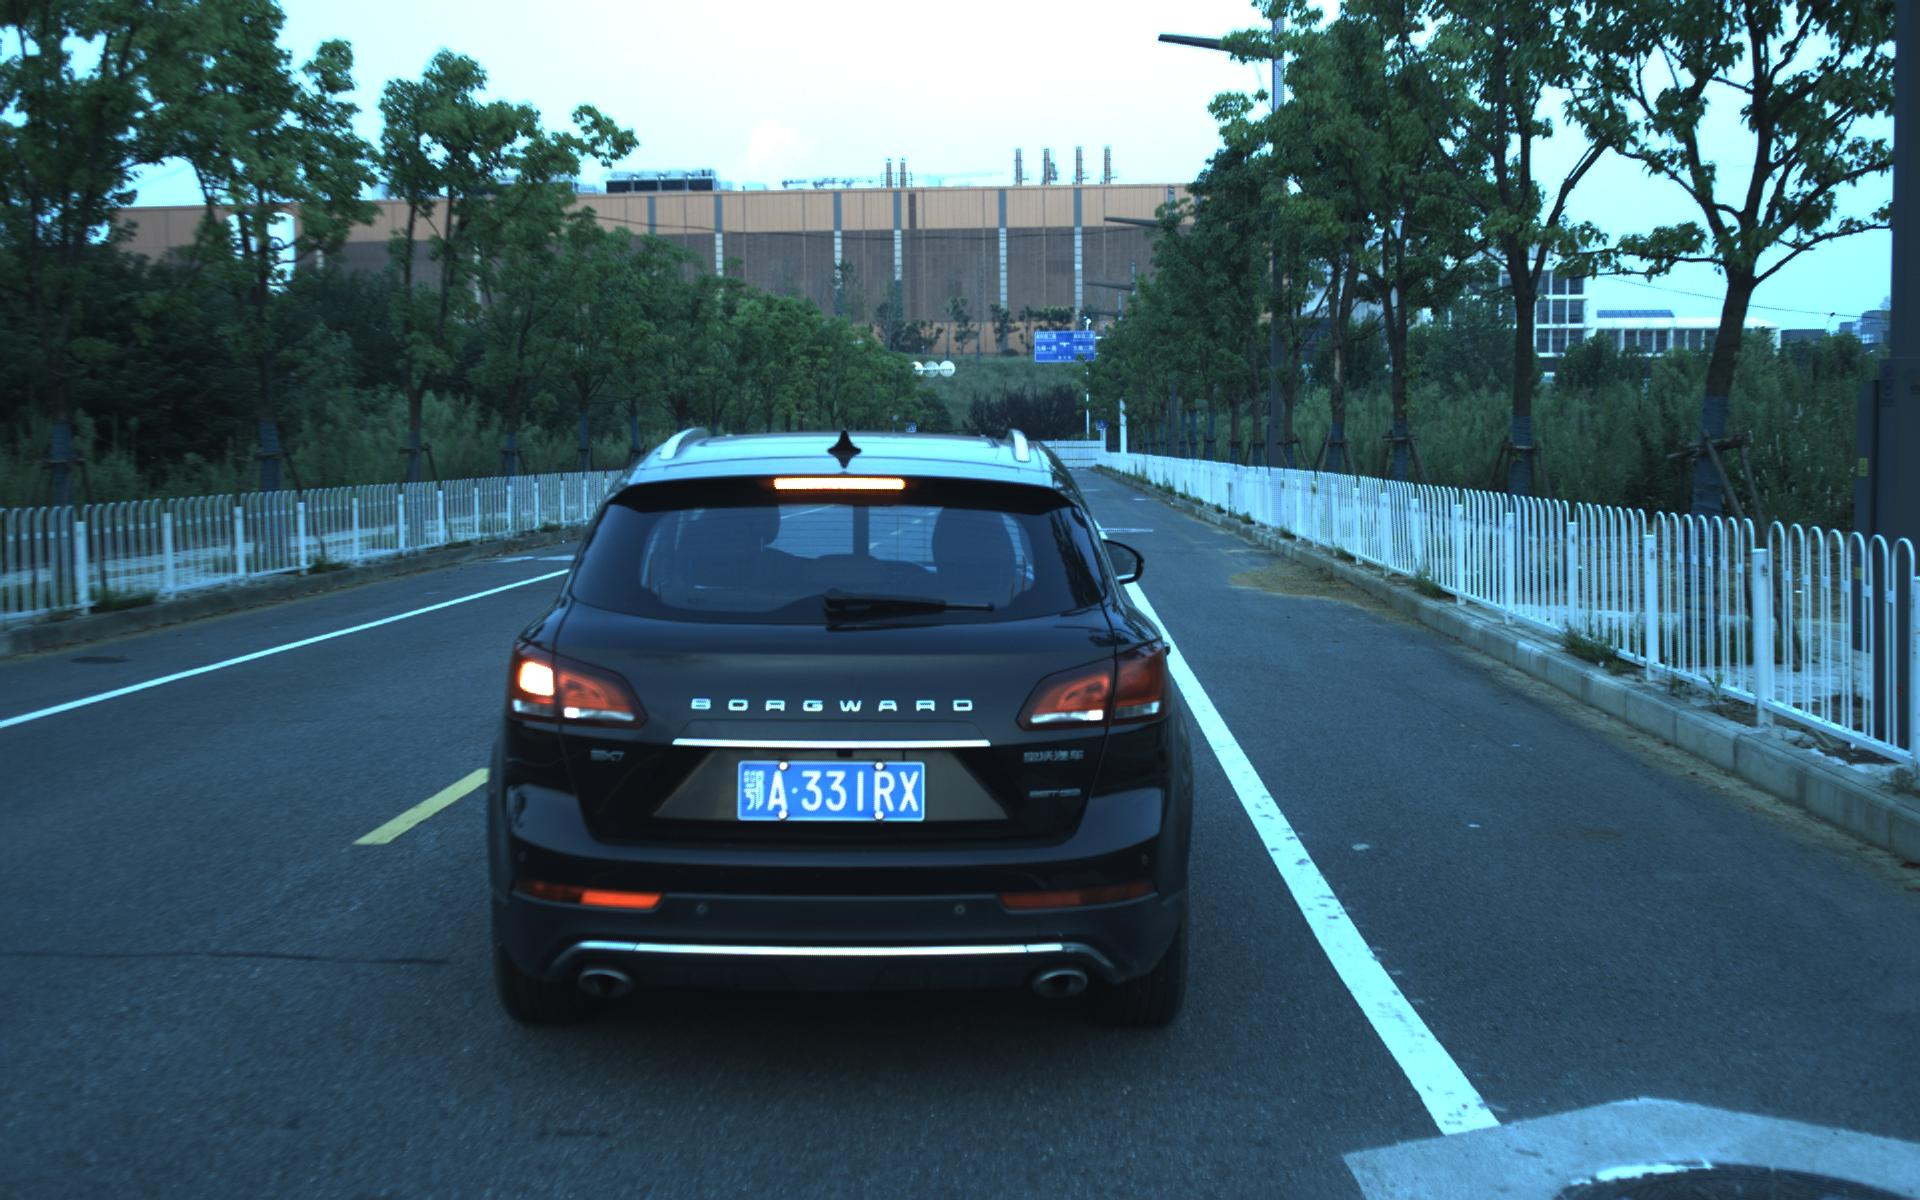Car: (491, 431, 1210, 1029)
